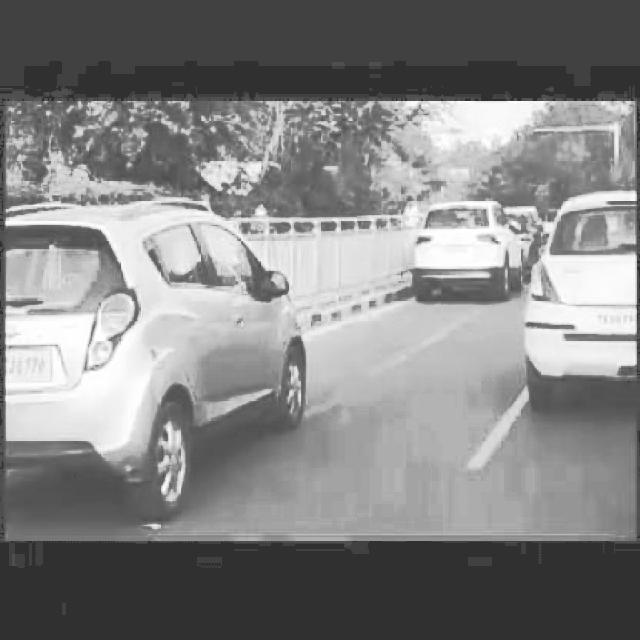Car: (1, 205, 318, 502), (522, 185, 638, 387), (414, 190, 528, 302)
